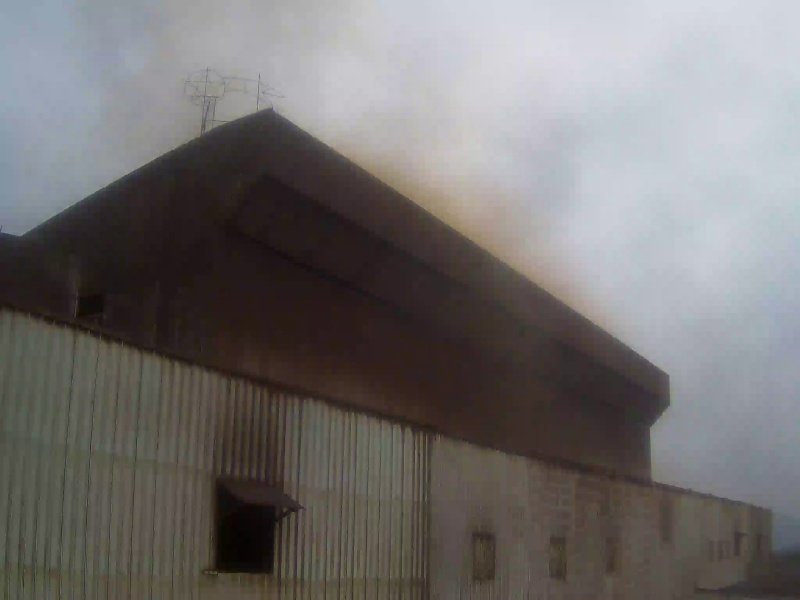Pessimo: (401, 160, 478, 190), (432, 182, 509, 212), (452, 196, 529, 226), (482, 215, 559, 245), (373, 149, 450, 179), (508, 240, 585, 270)
